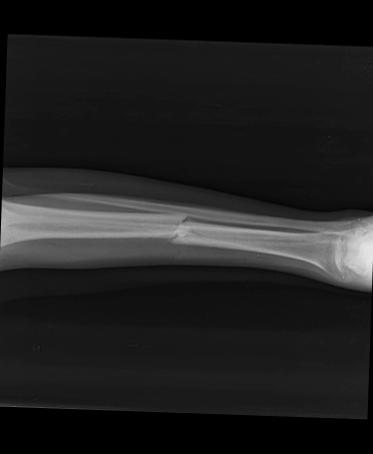fractured: (156, 213, 216, 247)
